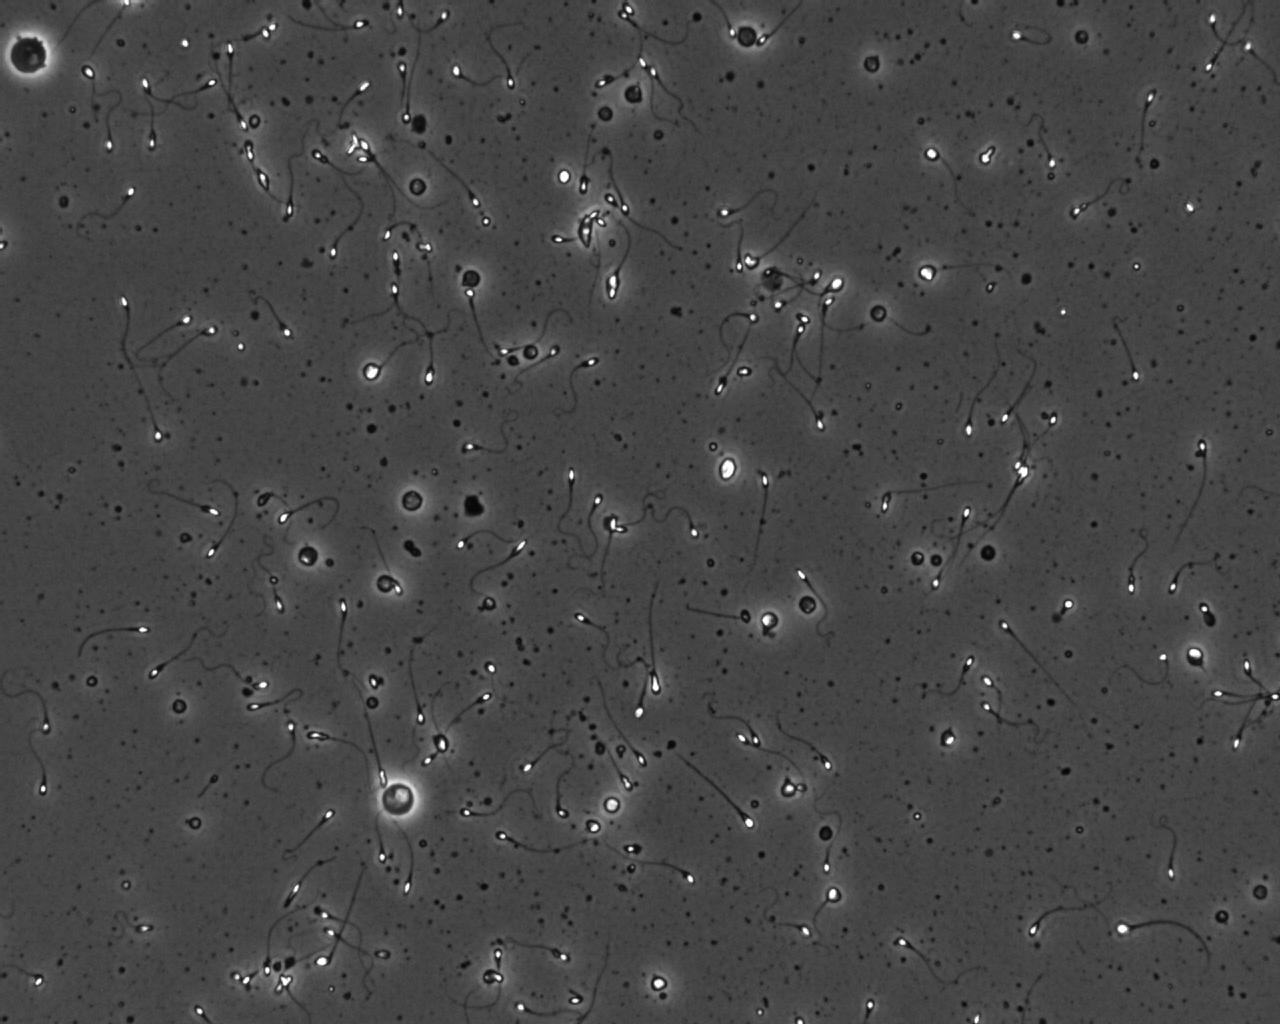cell: (1, 28, 54, 82), (376, 777, 421, 821), (757, 263, 788, 295), (397, 485, 427, 517), (293, 542, 324, 572), (714, 453, 741, 485), (732, 22, 761, 51), (408, 109, 432, 139), (794, 591, 821, 618), (757, 607, 783, 634), (599, 792, 625, 819), (620, 82, 647, 107), (859, 51, 884, 77), (865, 301, 891, 326), (975, 540, 1000, 566), (458, 266, 485, 290), (405, 174, 430, 200), (647, 971, 672, 995), (518, 340, 542, 364), (167, 694, 191, 718), (906, 546, 929, 571), (582, 814, 606, 837), (814, 822, 837, 846), (1249, 880, 1272, 904), (1210, 905, 1234, 928), (1070, 26, 1093, 49), (594, 102, 616, 125), (553, 165, 575, 188), (245, 110, 265, 133)
